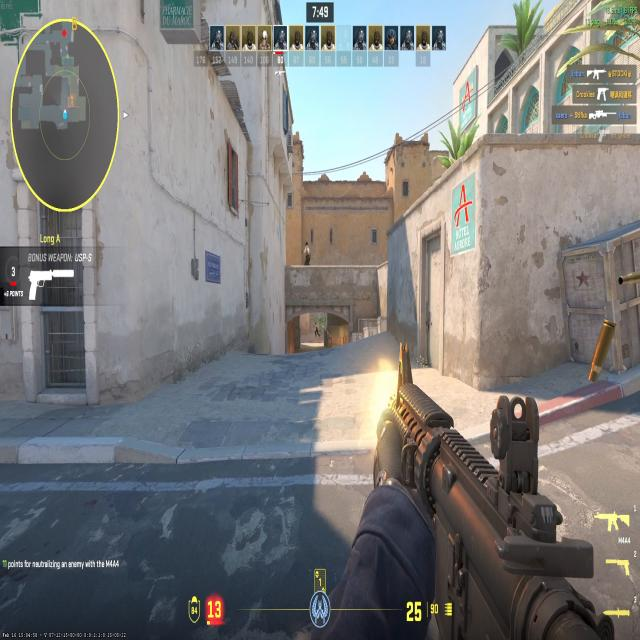player: (301, 239, 312, 265), (313, 322, 321, 336)
